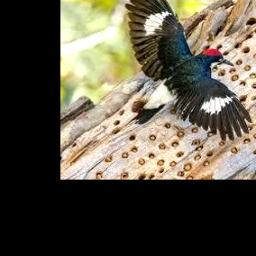Woodpecker: (125, 0, 252, 141)
